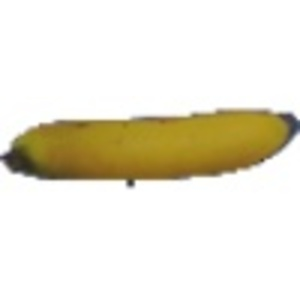banana: (1, 103, 299, 181)
